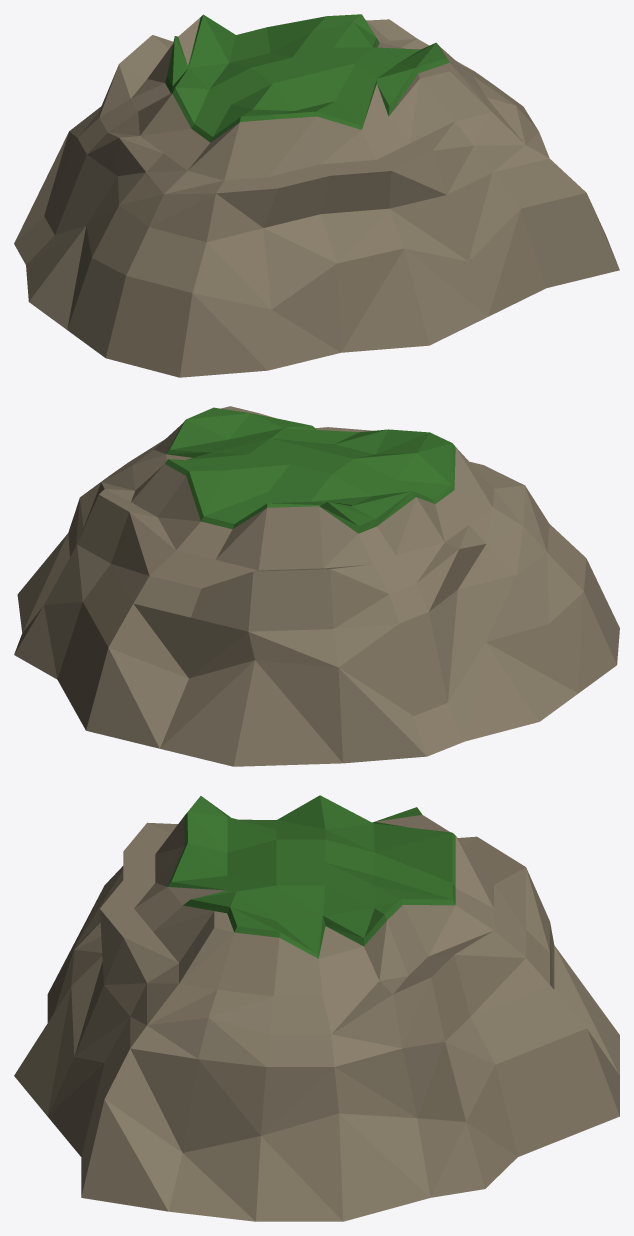
File: Plateau_05.glb
The picture shows the model from 3 angles, top to bottom: view 1: azimuth 30°, elevation 25°; view 2: azimuth 150°, elevation 25°; view 3: azimuth 270°, elevation 25°; orthographic projection. The views are drawn at different scales.
Parts seen in each view (by area): view 1: Plateau_temperate_climate_005; view 2: Plateau_temperate_climate_005; view 3: Plateau_temperate_climate_005.
Part boxes in pixels (<box>): Plateau_temperate_climate_005: <box>14,14,619,377</box>; Plateau_temperate_climate_005: <box>14,406,619,766</box>; Plateau_temperate_climate_005: <box>14,795,619,1221</box>.
Size of the model in its own units: 49.45 by 18.11 by 44.01.
1 material, 1 textured.
